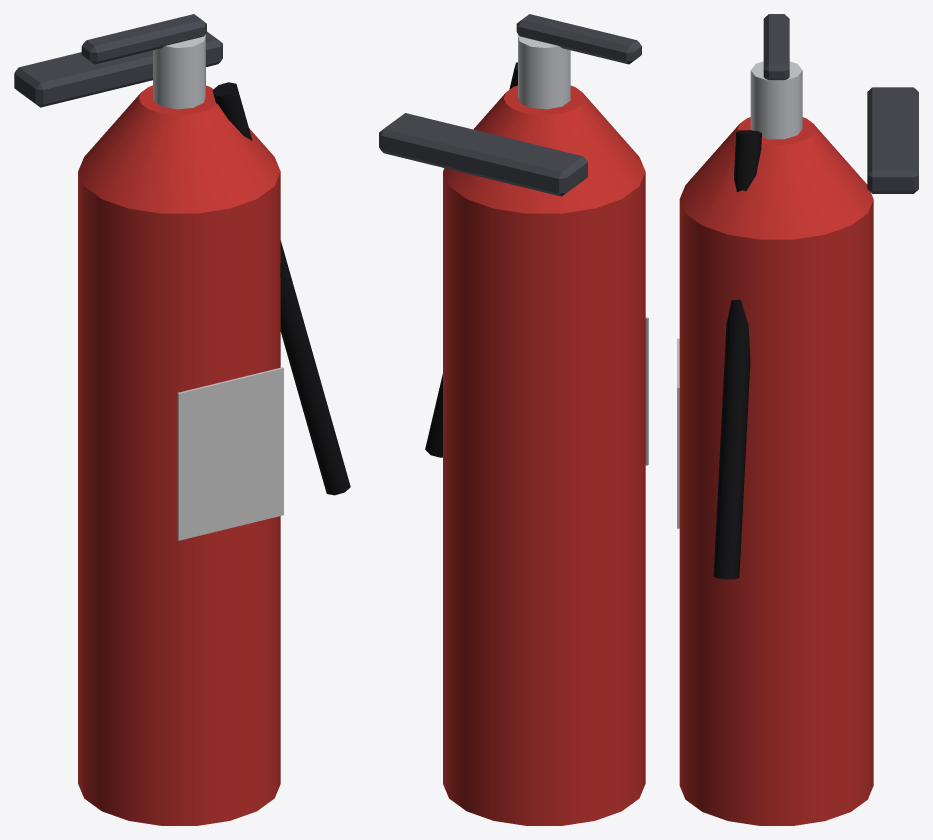
File: extintor.obj
3 renders of one model, left to right at view 1: azimuth 30°, elevation 25°; view 2: azimuth 150°, elevation 25°; view 3: azimuth 270°, elevation 25°, orthographic. The views are drawn at different scales.
Visible parts, largest first — view 1: extintor; view 2: extintor; view 3: extintor.
Part boxes in pixels (left/top/right/bottom): extintor: left=14, top=14, right=350, bottom=825; extintor: left=379, top=14, right=648, bottom=825; extintor: left=677, top=14, right=918, bottom=825.
Bounding box in the file's own units: 0.2029 × 0.6225 × 0.187.
